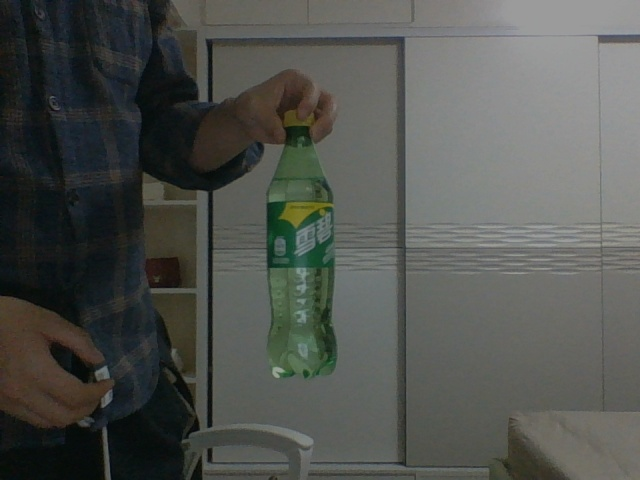Sprite: (265, 111, 335, 379)
